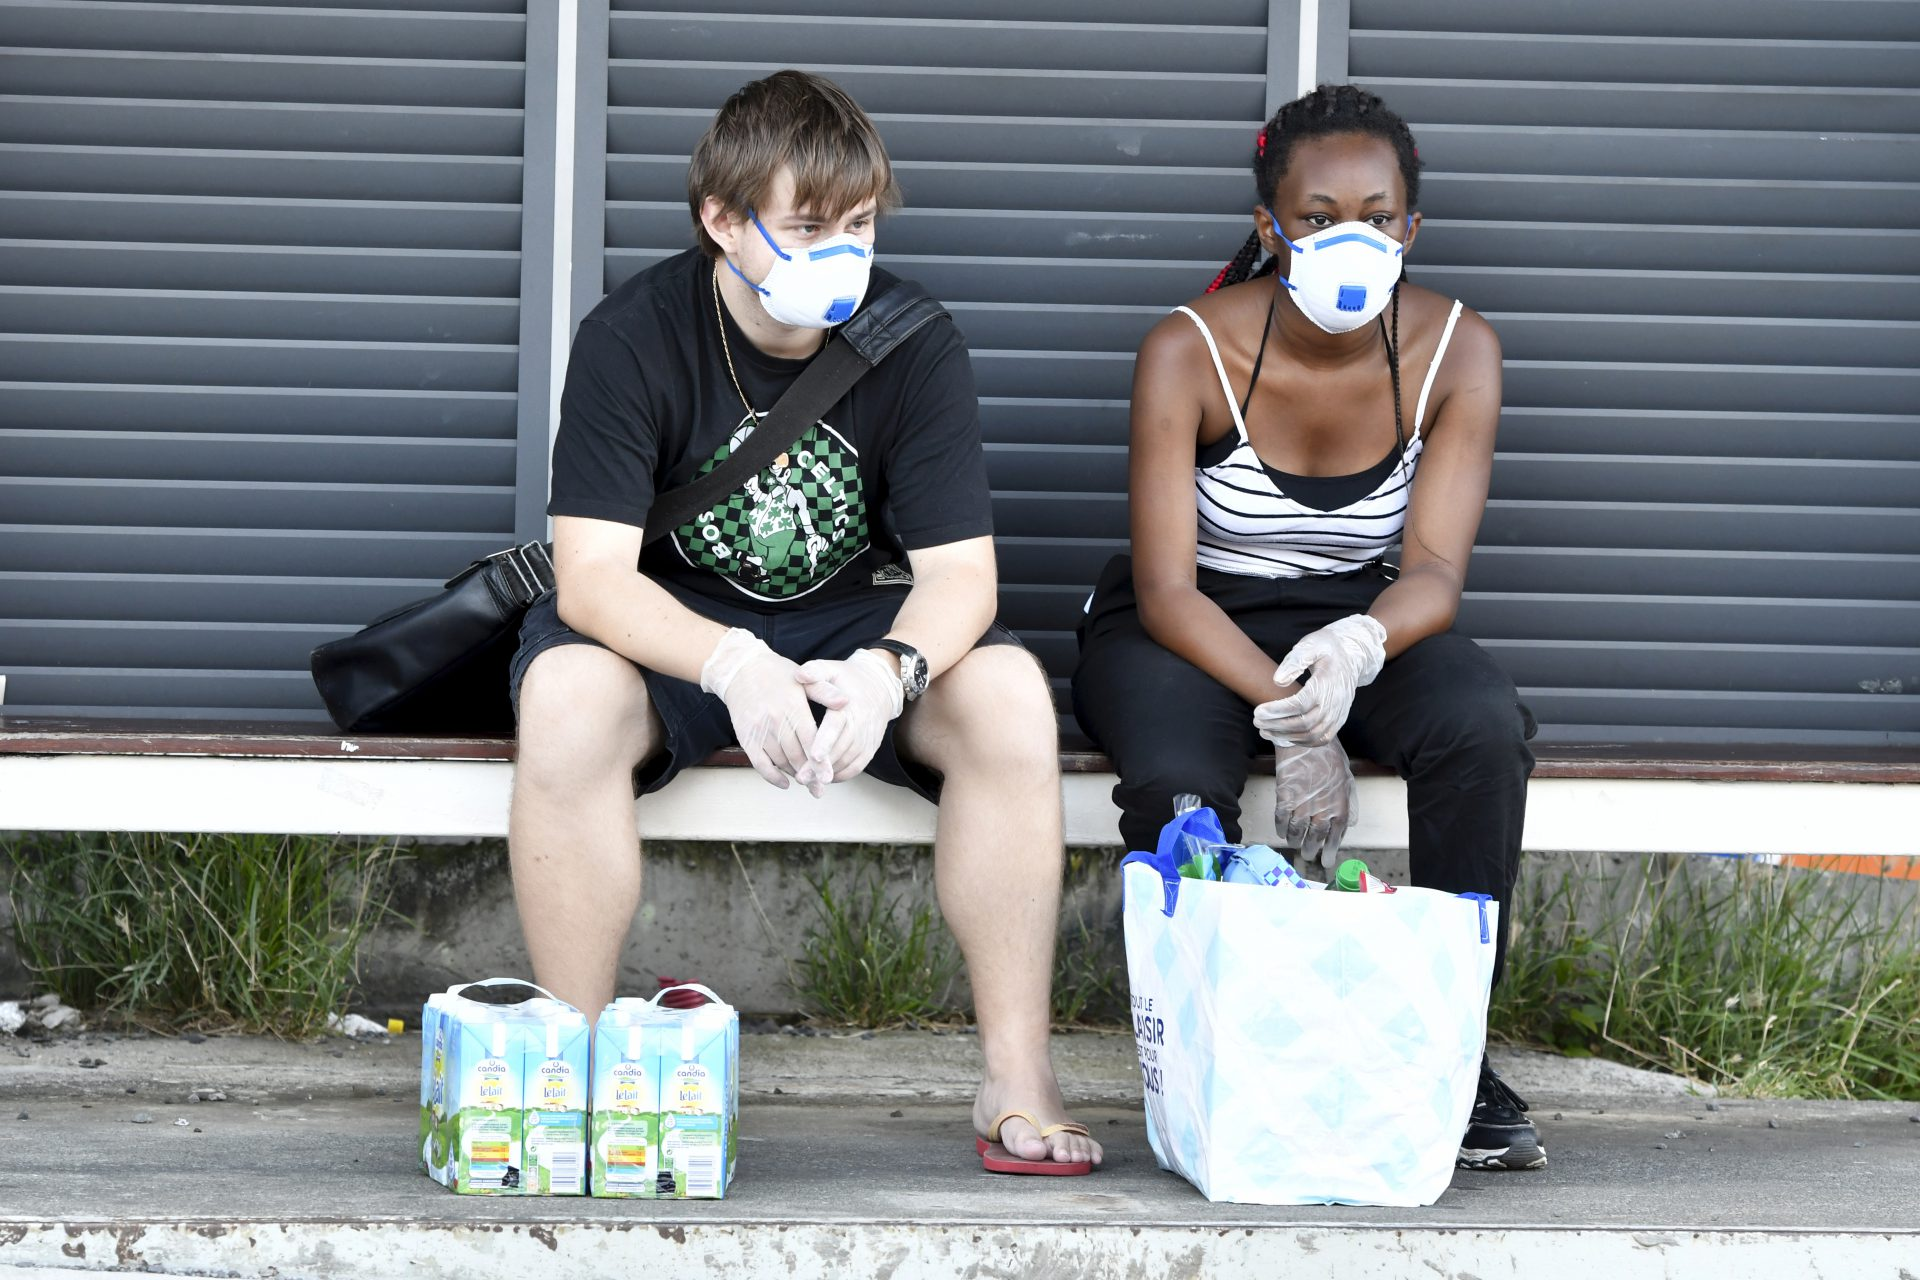with_mask: (695, 141, 876, 342), (1252, 156, 1429, 352)
